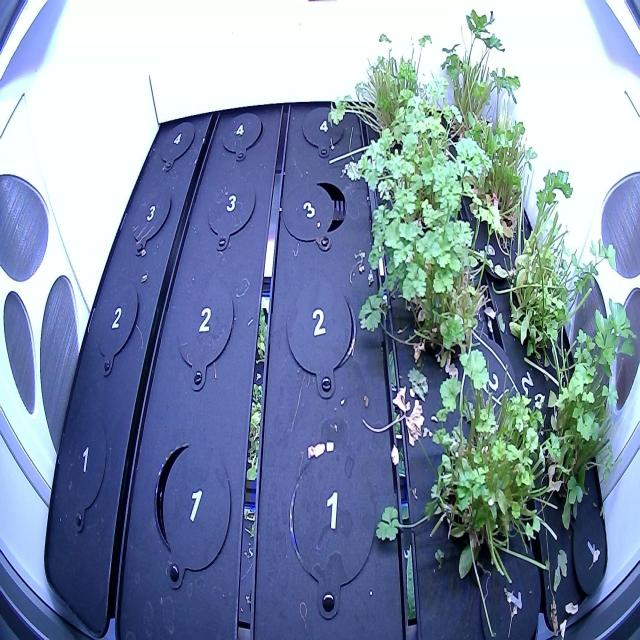empty_pod: (281, 438, 380, 622), (148, 431, 230, 598), (284, 272, 358, 405), (170, 270, 239, 402), (59, 407, 112, 541), (90, 269, 140, 386), (203, 165, 259, 259), (297, 172, 350, 256), (126, 177, 174, 266), (156, 105, 197, 184), (299, 99, 348, 164), (219, 106, 264, 166)
